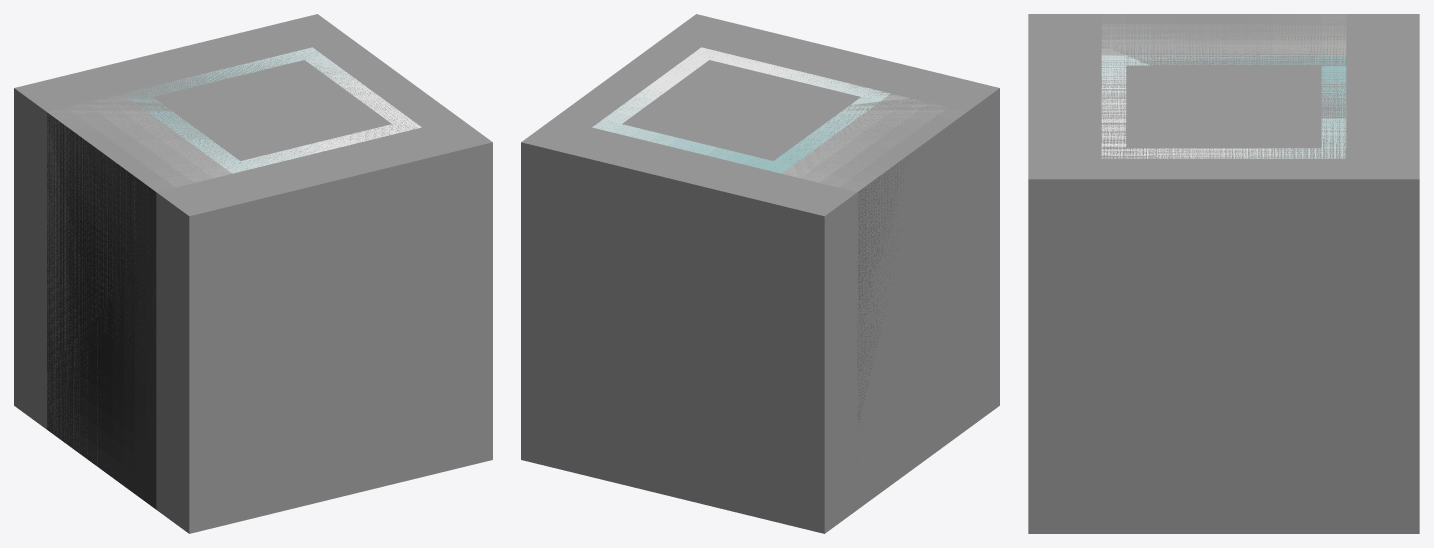
Rendered from relay800.obj.
The picture shows the model from 3 angles, left to right: view 1: azimuth 30°, elevation 25°; view 2: azimuth 150°, elevation 25°; view 3: azimuth 270°, elevation 25°; orthographic projection. The views are drawn at different scales.
Parts seen in each view (by area): view 1: Minecraft_Block_Cube, main, Minecraft_2_Edge_Connectivity_Cube.002; view 2: Minecraft_Block_Cube, Minecraft_2_Edge_Connectivity_Cube.002, main; view 3: Minecraft_Block_Cube, main, Minecraft_2_Edge_Connectivity_Cube.002.
Boxes of the visible parts, x1,y1,x2,y2 form: Minecraft_Block_Cube: [15, 14, 492, 533]; main: [47, 47, 421, 509]; Minecraft_2_Edge_Connectivity_Cube.002: [14, 88, 252, 533]; Minecraft_Block_Cube: [521, 14, 998, 533]; Minecraft_2_Edge_Connectivity_Cube.002: [760, 88, 999, 533]; main: [592, 47, 966, 422]; Minecraft_Block_Cube: [1028, 14, 1419, 533]; main: [1101, 14, 1346, 158]; Minecraft_2_Edge_Connectivity_Cube.002: [1029, 14, 1418, 96].
Bounding box in the file's own units: 1 × 1 × 1.
Materials: 2 (1 with a texture image).
